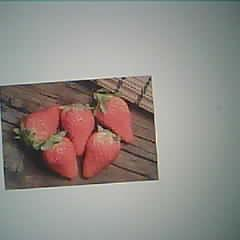straw-ripe: (95, 96, 133, 142), (18, 103, 61, 141), (83, 131, 120, 175), (62, 104, 93, 153), (44, 139, 77, 178)
